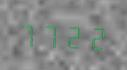seven: (18, 18, 39, 49), (40, 19, 61, 49)
two: (62, 19, 83, 50), (84, 20, 105, 51)
